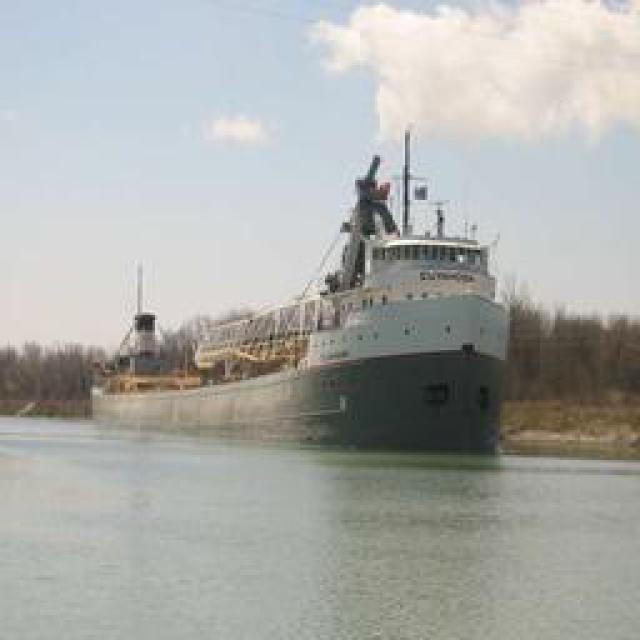Ship: (131, 144, 504, 427)
